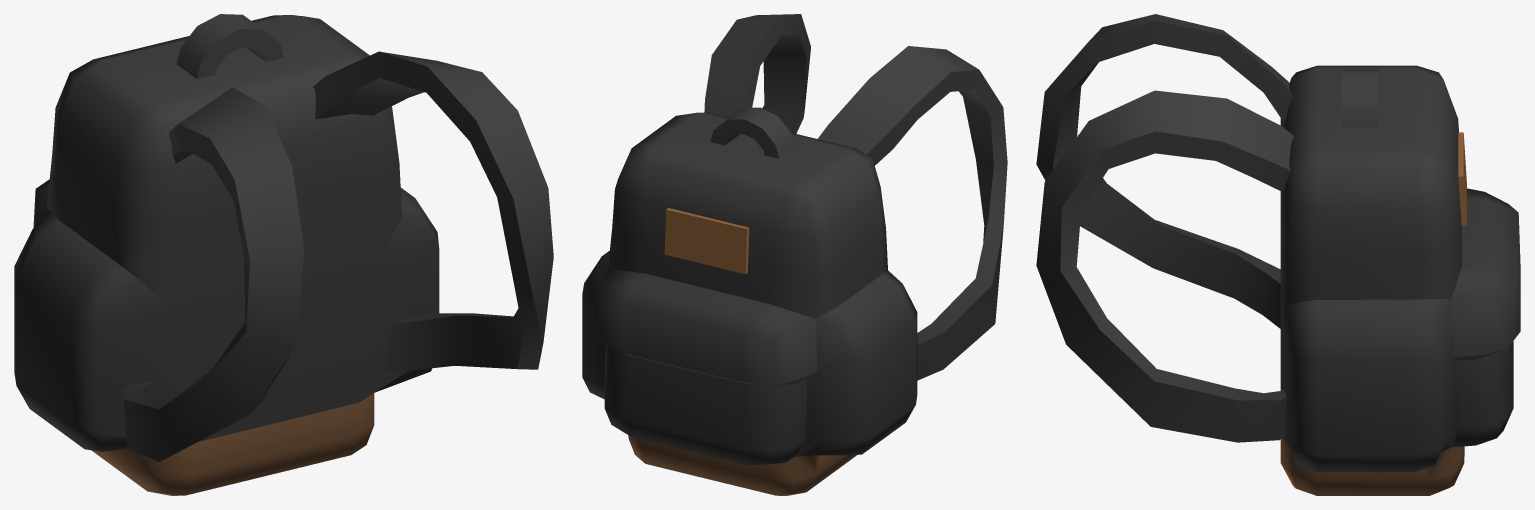
File: Bag_4.fbx
3 renders of one model, left to right at view 1: azimuth 30°, elevation 25°; view 2: azimuth 150°, elevation 25°; view 3: azimuth 270°, elevation 25°, orthographic. The views are drawn at different scales.
Parts seen in each view (by area): view 1: Bag_4; view 2: Bag_4; view 3: Bag_4.
Boxes of the visible parts, box(x1,y1,x2,y2) form: Bag_4: box(14, 14, 553, 495); Bag_4: box(582, 14, 1007, 495); Bag_4: box(1036, 14, 1520, 495).
Size of the model in its own units: 45.72 by 52.7 by 57.33.
